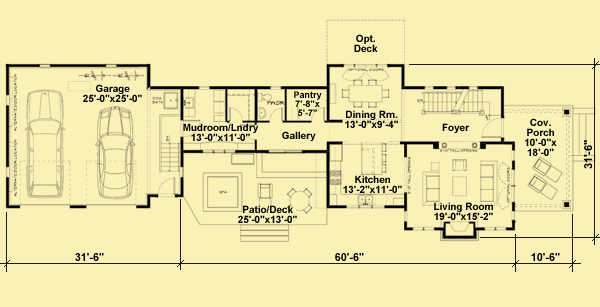dining table: (341, 78, 392, 110)
door: (478, 118, 505, 138), (153, 176, 176, 199), (226, 106, 243, 125), (269, 105, 285, 124)
kitchen bar: (359, 140, 388, 179)
large sink: (254, 90, 273, 105)
large sofa: (478, 159, 499, 204), (420, 168, 442, 206)
round table: (286, 185, 315, 213)
small sink: (252, 104, 269, 120)
small sofa: (252, 181, 273, 200), (449, 156, 468, 173)
stairs: (416, 90, 501, 119), (154, 111, 184, 175), (239, 221, 292, 244)
twin sink: (356, 193, 374, 207)
windows: (83, 203, 140, 212), (265, 146, 307, 157), (16, 201, 73, 209), (339, 60, 388, 69), (196, 148, 240, 157), (410, 224, 439, 232), (35, 62, 57, 72), (103, 62, 120, 70), (3, 163, 11, 178), (5, 90, 11, 107)
